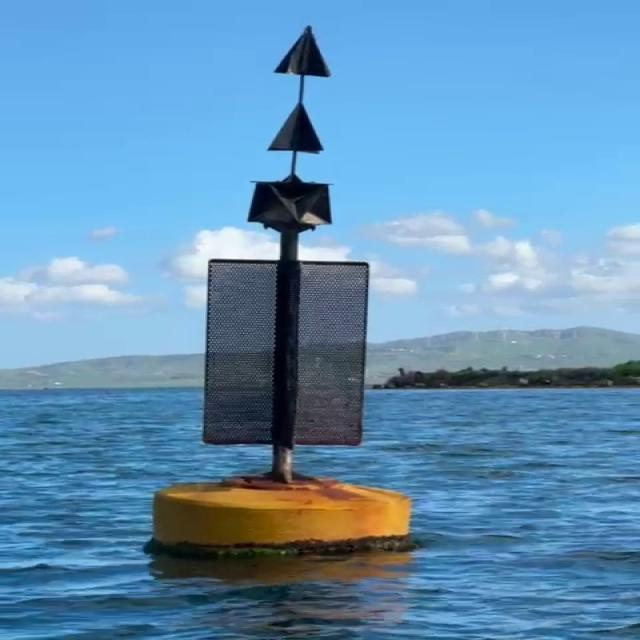marque: (149, 32, 418, 558)
